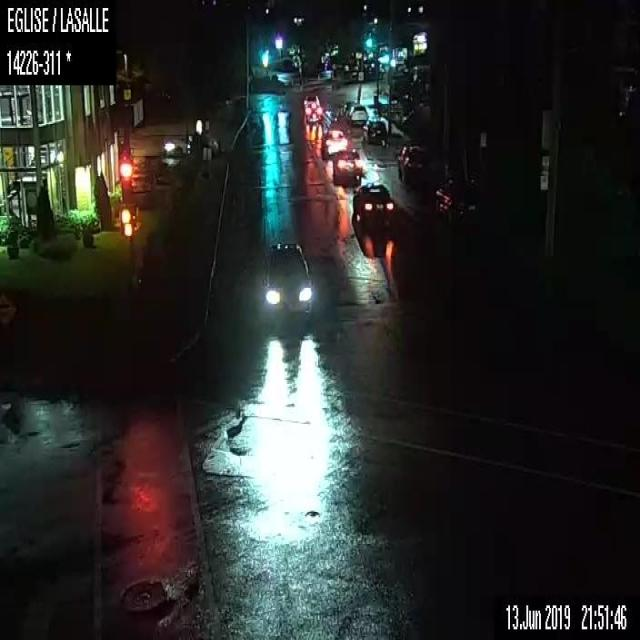vehicle: (262, 242, 313, 314), (435, 175, 478, 222), (352, 182, 397, 223), (396, 144, 436, 181), (332, 147, 362, 182), (320, 128, 346, 156), (362, 116, 386, 143), (346, 104, 369, 122), (305, 107, 322, 121), (302, 94, 319, 107)
